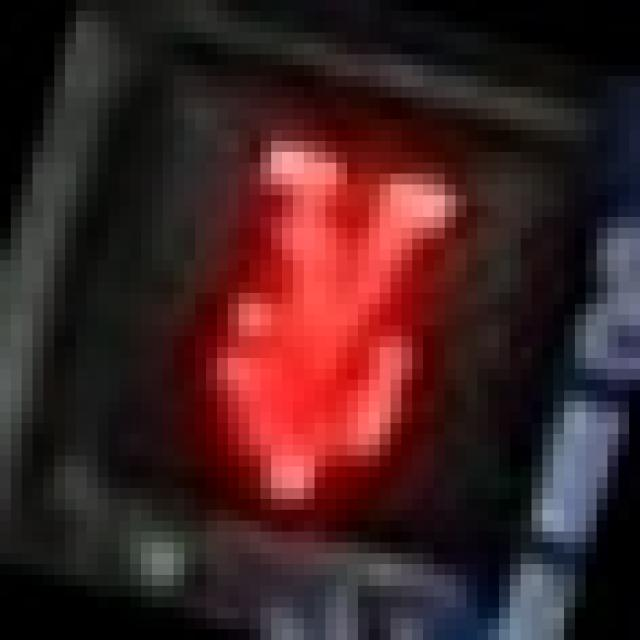red_light: (33, 54, 564, 575)
